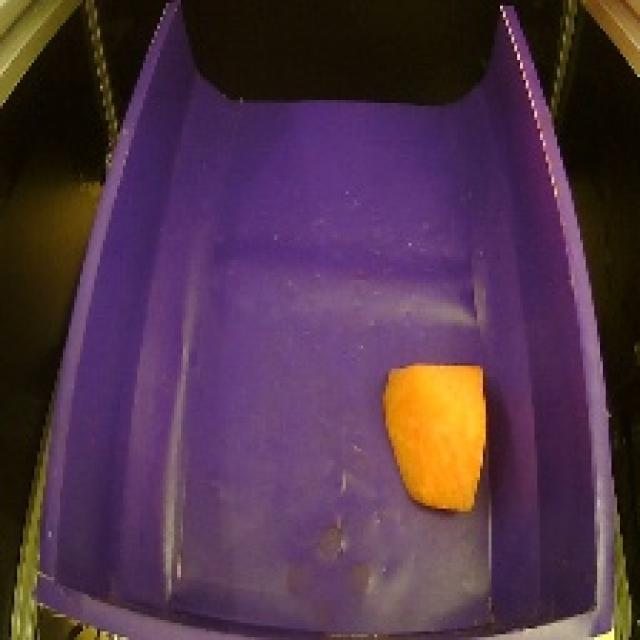carrots: (372, 352, 495, 520)
